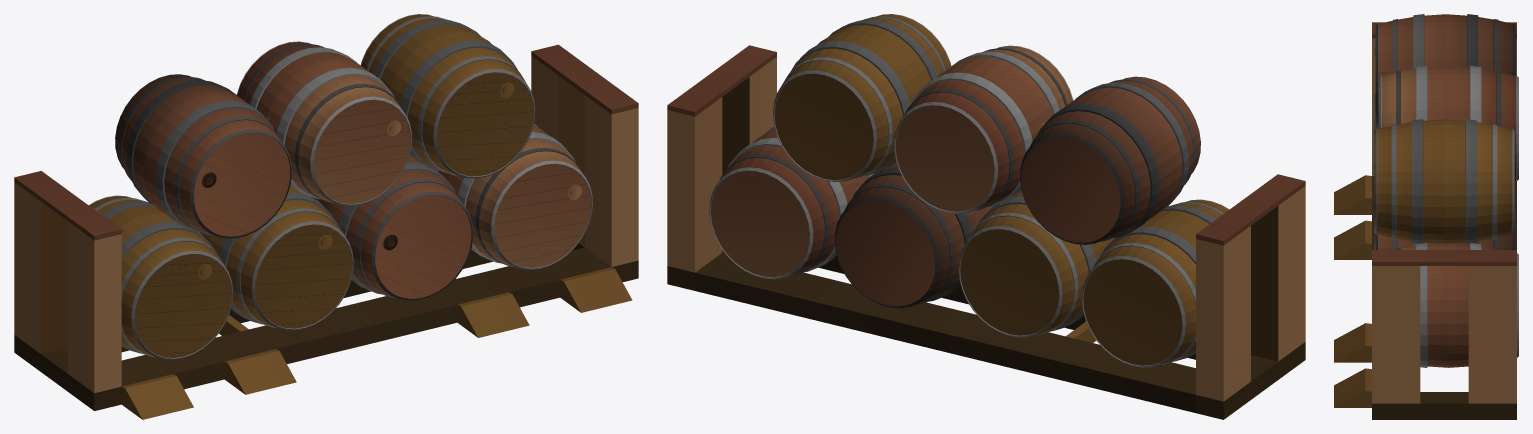
File: Small Barrel Rack Full.fbx
The picture shows the model from 3 angles, left to right: view 1: azimuth 30°, elevation 25°; view 2: azimuth 150°, elevation 25°; view 3: azimuth 270°, elevation 25°; orthographic projection. The views are drawn at different scales.
Parts seen in each view (by area): view 1: Small Barrel Rack Full; view 2: Small Barrel Rack Full; view 3: Small Barrel Rack Full.
Part boxes in pixels (left/top/right/bottom): Small Barrel Rack Full: left=14, top=14, right=638, bottom=419; Small Barrel Rack Full: left=667, top=14, right=1305, bottom=419; Small Barrel Rack Full: left=1334, top=14, right=1518, bottom=419.
Size of the model in its own units: 487 by 357 by 1096.
1 material, 1 textured.
